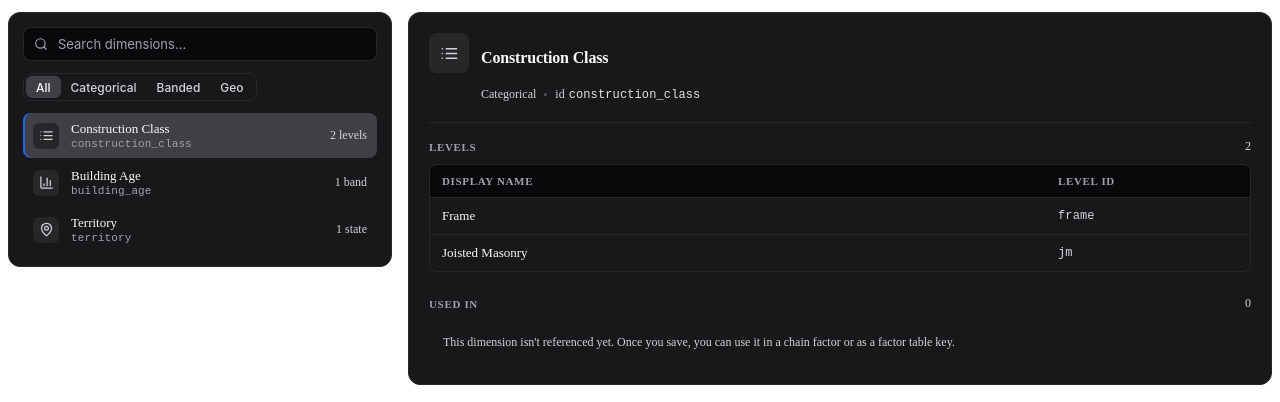
Test: <DimensionsWorkspaceV2> — shell (P1) › auto-selects the first dimension; clicking another switches the detail
The width and height of the screenshot is (1280, 402).
Check: the heading "Construction Class" is shown, box [481, 49, 608, 66]
Check: the text "Frame" is shown, box [442, 208, 475, 223]
Click the text "Building Age" at (106, 176), box [71, 168, 141, 183]
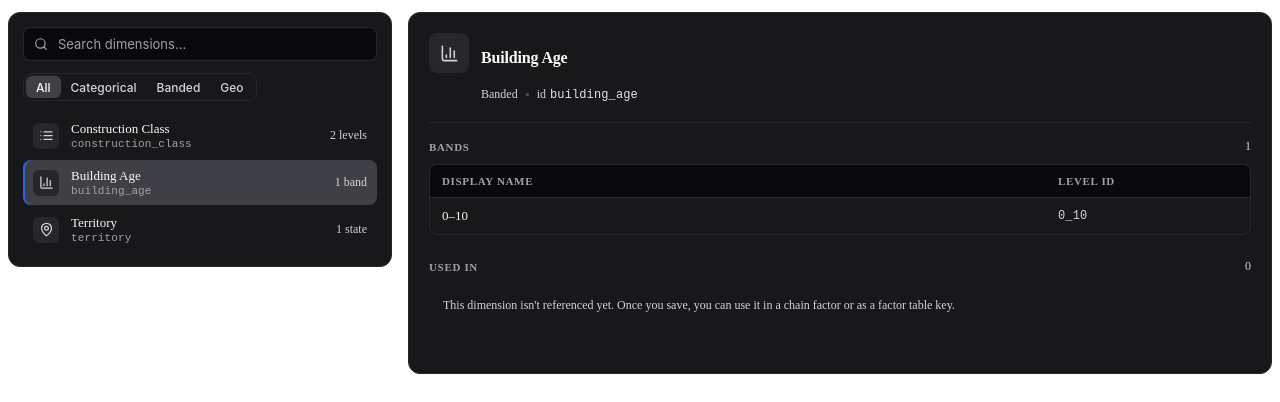
Check: the heading "Building Age" is shown, box [481, 49, 568, 66]
Check: the text "Frame" is gone
